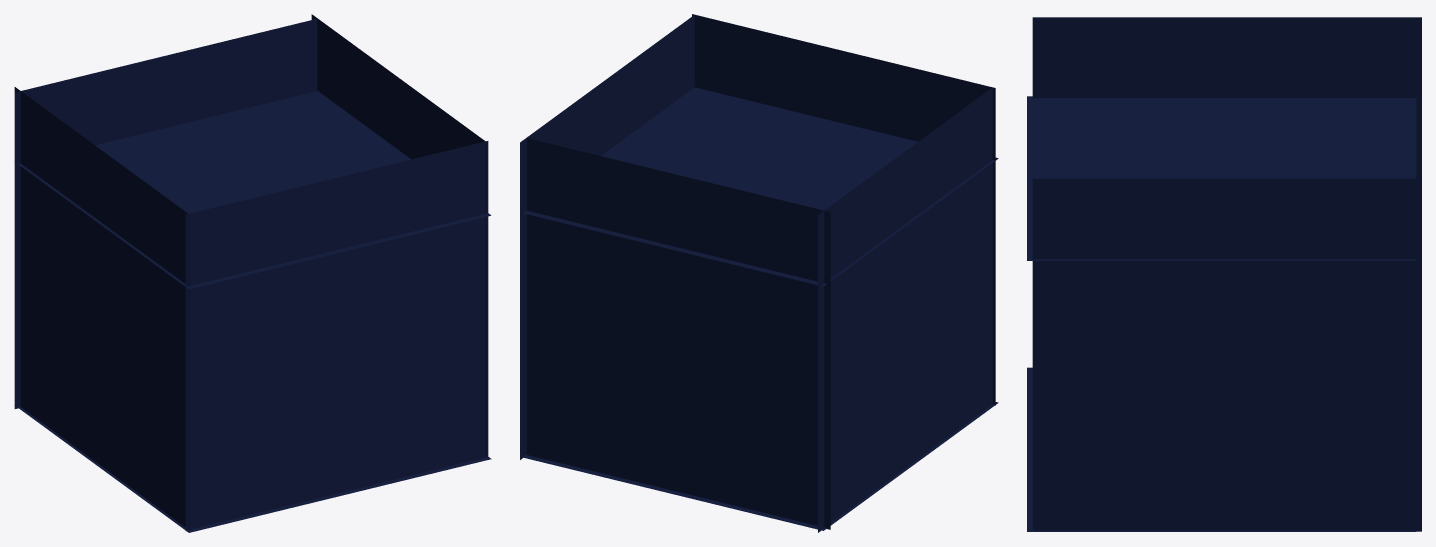
The model's file is withbooks.fbx.
3 renders of one model, left to right at view 1: azimuth 30°, elevation 25°; view 2: azimuth 150°, elevation 25°; view 3: azimuth 270°, elevation 25°, orthographic. The views are drawn at different scales.
Parts seen in each view (by area): view 1: wall; view 2: wall; view 3: wall.
Part boxes in pixels (left/top/right/bottom): wall: left=14, top=14, right=491, bottom=532; wall: left=520, top=14, right=998, bottom=532; wall: left=1027, top=17, right=1421, bottom=531.
Size of the model in its own units: 3969 by 3926 by 3984.
